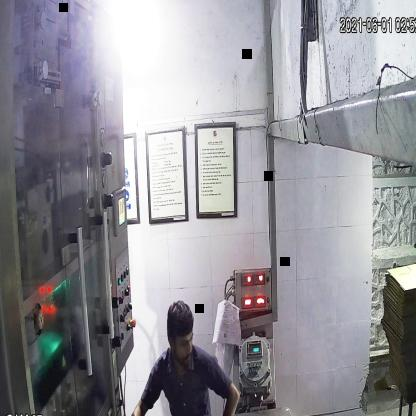no_goggles: (164, 326, 195, 352)
